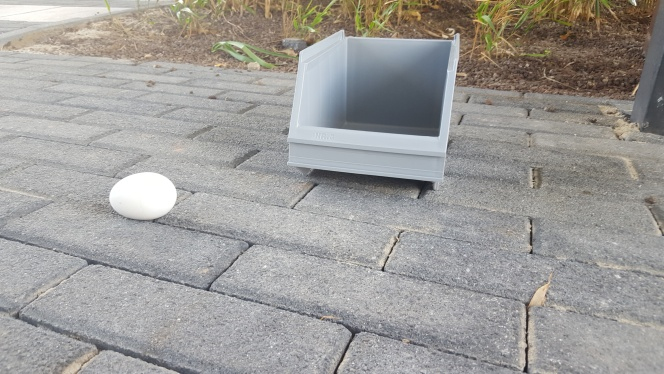egg: (109, 170, 179, 224)
tray_front: (288, 47, 451, 189)
